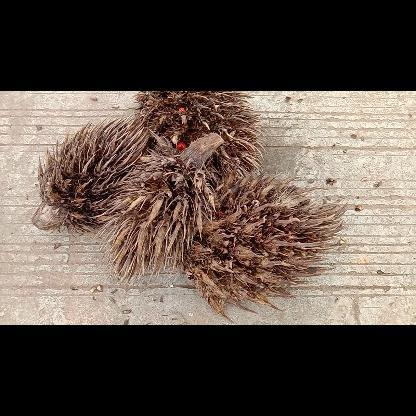Janjang kosong: (183, 172, 348, 314), (98, 132, 224, 280), (32, 117, 150, 237), (136, 91, 262, 177)
